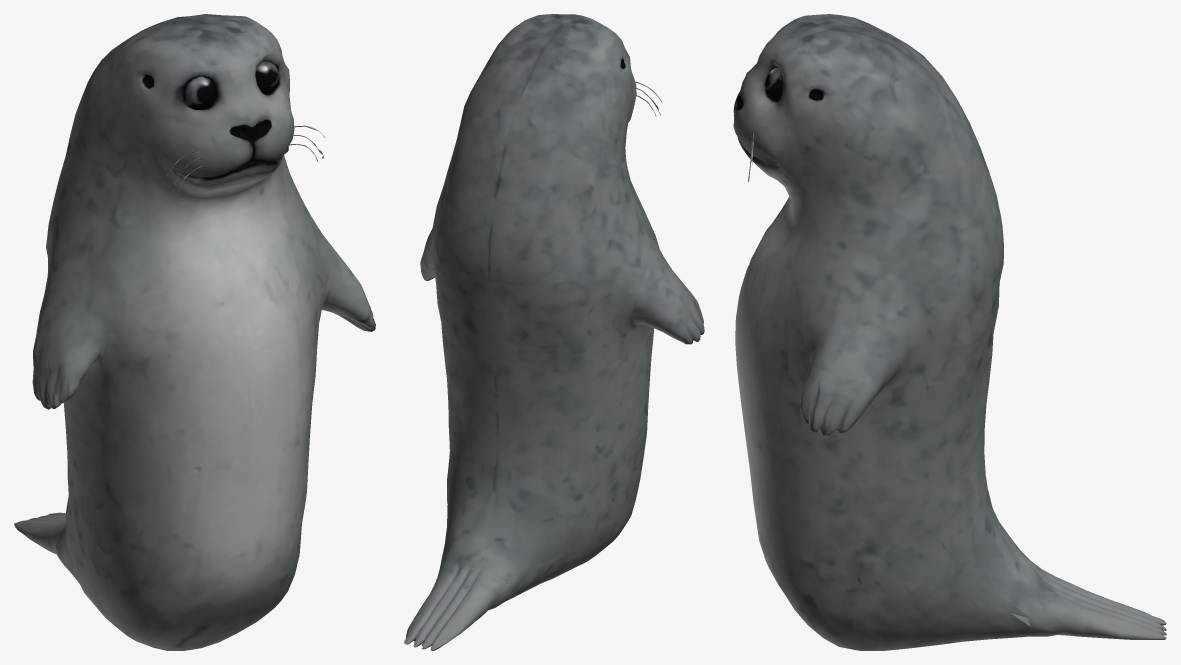
The model's file is seal.glb.
The picture shows the model from 3 angles, left to right: view 1: azimuth 30°, elevation 25°; view 2: azimuth 150°, elevation 25°; view 3: azimuth 270°, elevation 25°; orthographic projection. The views are drawn at different scales.
Parts seen in each view (by area): view 1: geometry_0; view 2: geometry_0; view 3: geometry_0.
Part boxes in pixels (box(x1,y1,x2,y2)): geometry_0: box(14, 14, 375, 650); geometry_0: box(404, 14, 704, 650); geometry_0: box(733, 14, 1166, 650).
Bounding box in the file's own units: 0.5181 × 0.9507 × 0.6118.
1 material, 1 textured.
